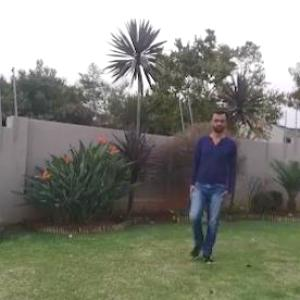follow: (187, 113, 229, 255)
